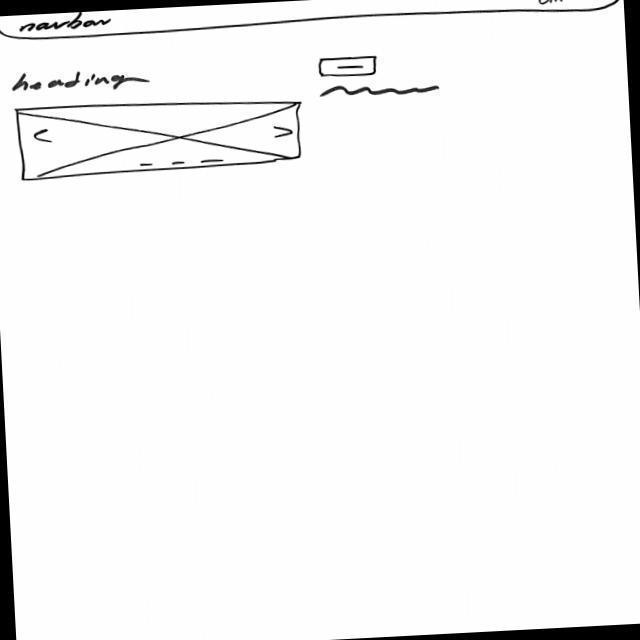container: (1, 1, 625, 43)
icon-button: (319, 54, 380, 80)
image: (14, 92, 306, 182)
label: (13, 67, 151, 96), (19, 12, 114, 33), (536, 1, 580, 7)
text: (320, 81, 443, 102)
